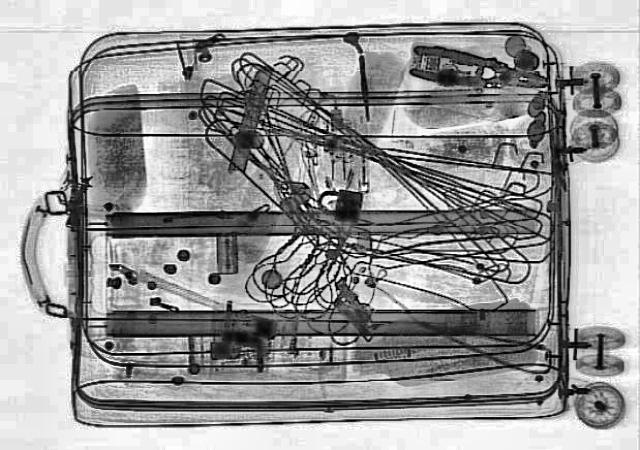Pliers: (400, 39, 552, 98)
